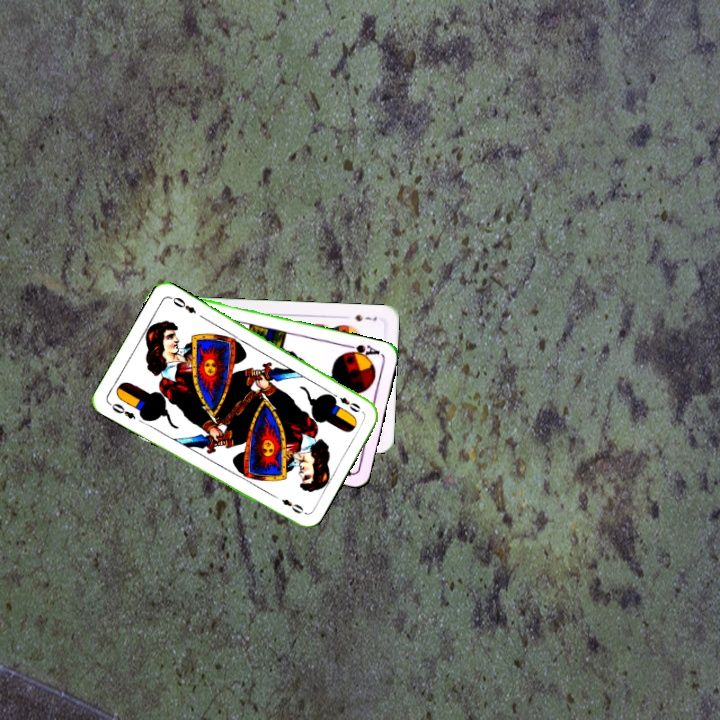EO: (328, 389, 363, 415), (105, 399, 138, 422)
S7: (351, 310, 379, 324)
SA: (341, 340, 383, 362)
